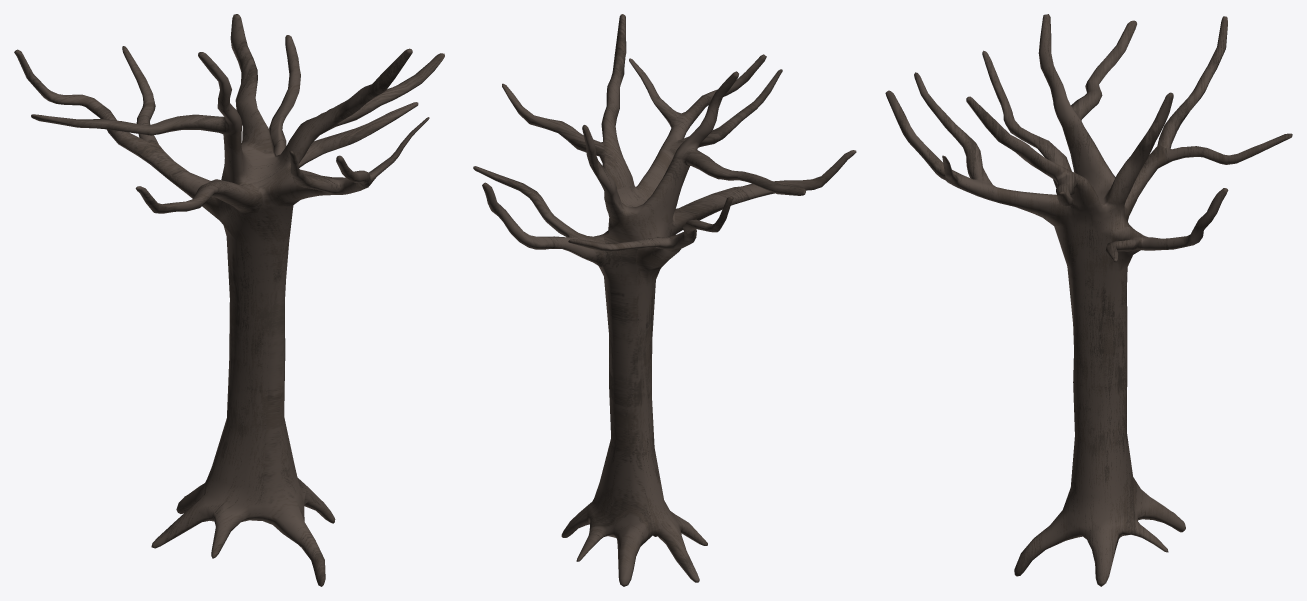
Rendered from TreeOrganic.obj.
3 views of the same model, side by side, from view 1: azimuth 30°, elevation 25°; view 2: azimuth 150°, elevation 25°; view 3: azimuth 270°, elevation 25° (orthographic). The views are drawn at different scales.
Parts seen in each view (by area): view 1: TreeOrganic; view 2: TreeOrganic; view 3: TreeOrganic.
Part boxes in pixels (<box>): TreeOrganic: <box>14,14,444,586</box>; TreeOrganic: <box>473,14,856,586</box>; TreeOrganic: <box>885,14,1292,586</box>.
Size of the model in its own units: 26.46 by 36.85 by 26.41.
